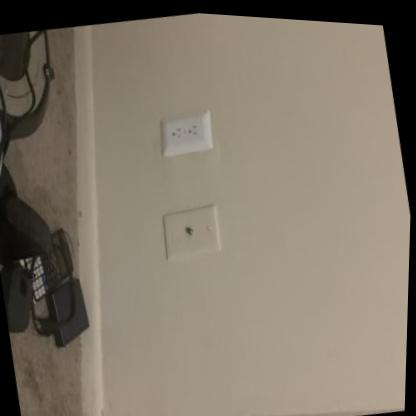OUTLET: (156, 104, 216, 158)
